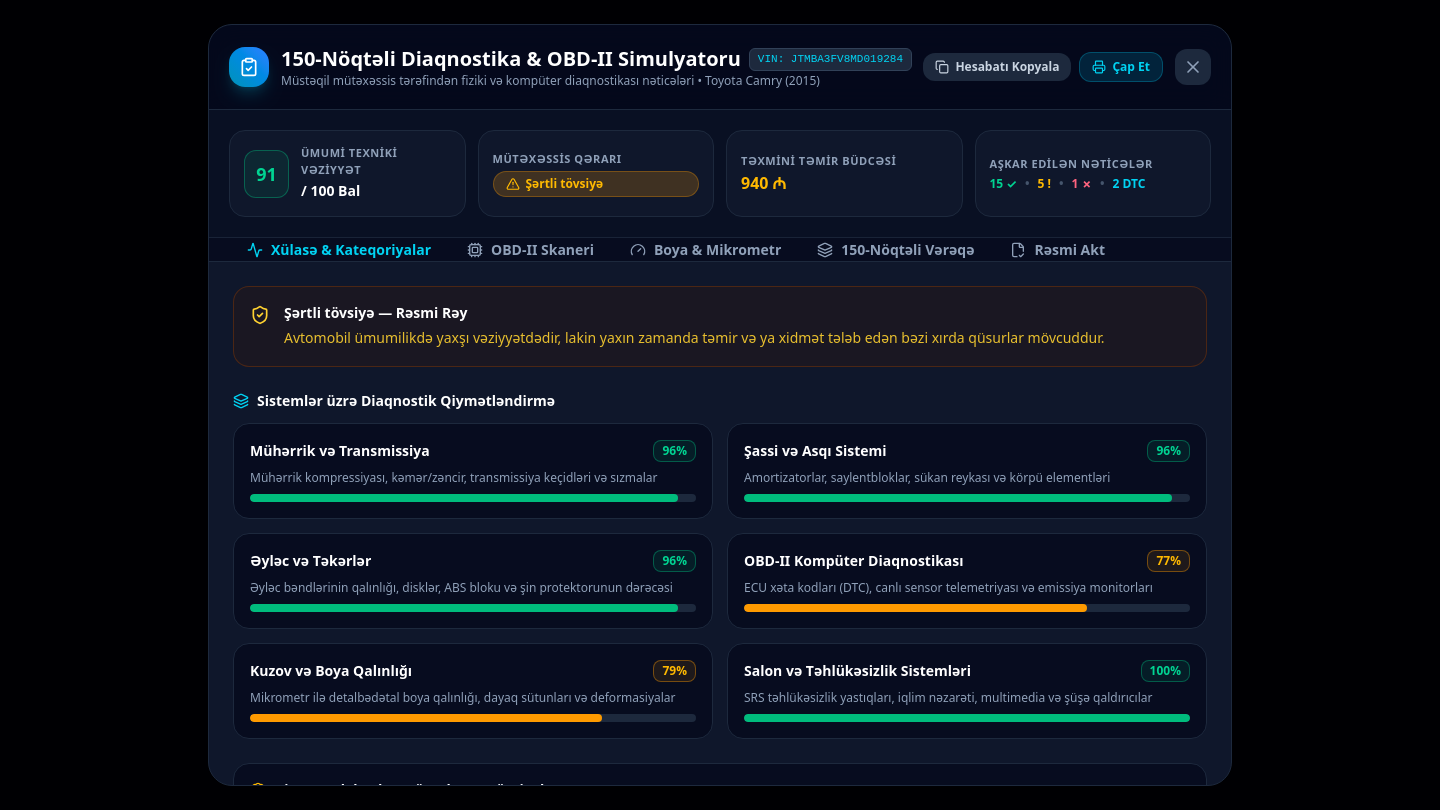
it: InspectionModal Component › displays DTC codes and handles clearing them in OBD-II tab
# Switch to OBD tab
Click the button with test id "inspection-tab-obd2": (530, 251) [453,238,608,264]
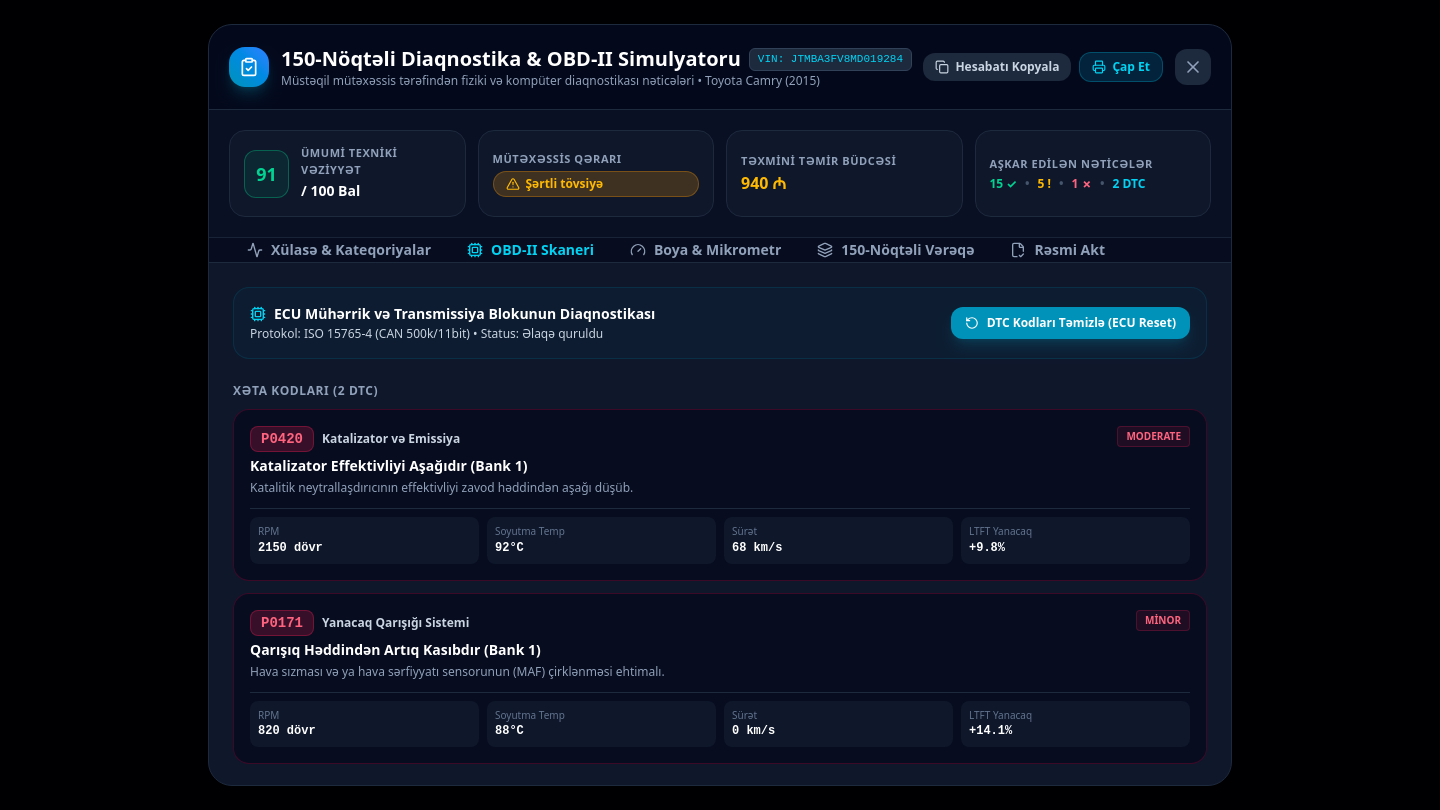
Expected: the button with test id "clear-dtc-btn" is shown
Click the button with test id "clear-dtc-btn": (1070, 323) [951,307,1190,339]
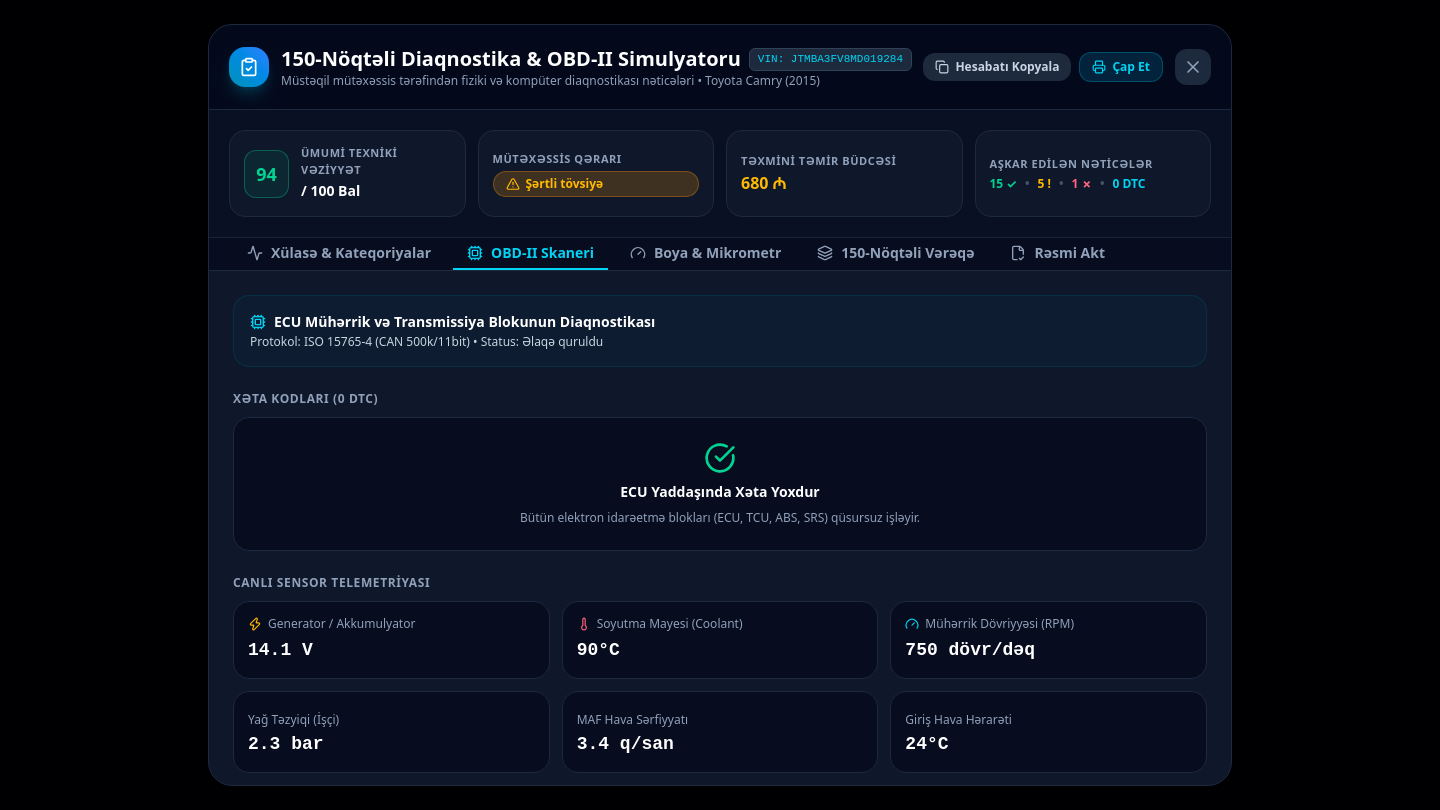
Expected: the heading "ECU Yaddaşında Xəta Yoxdur" is shown, [620,482,820,501]
